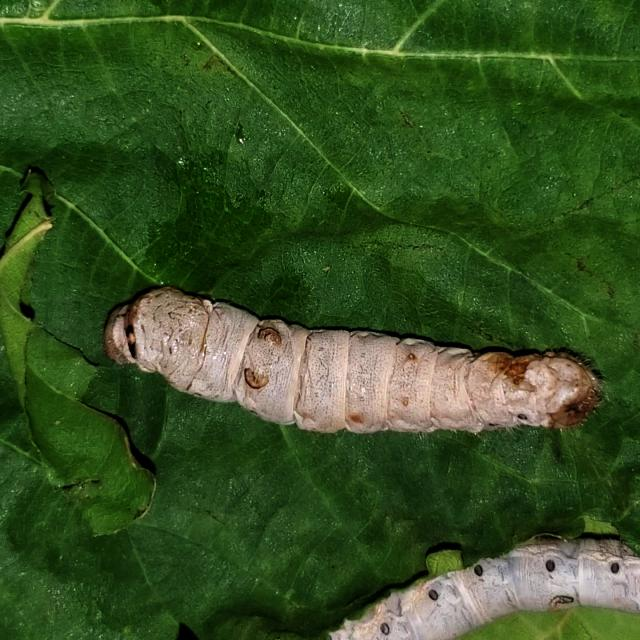Grasserie: (79, 237, 616, 480)
